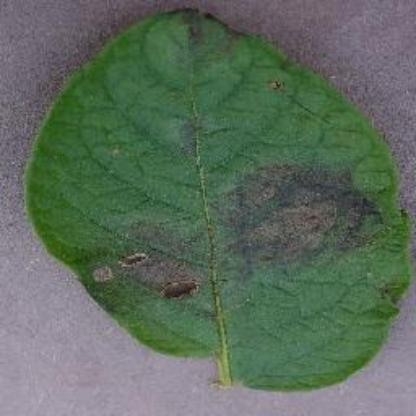Late-Blight: (23, 6, 411, 394)
